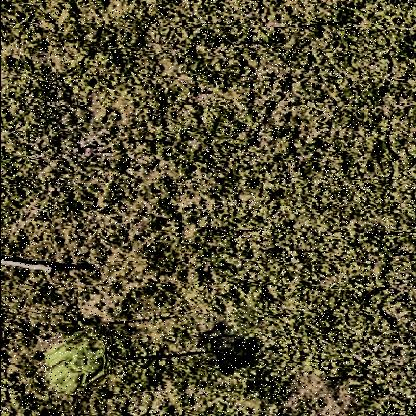tree-top: (42, 327, 110, 399)
